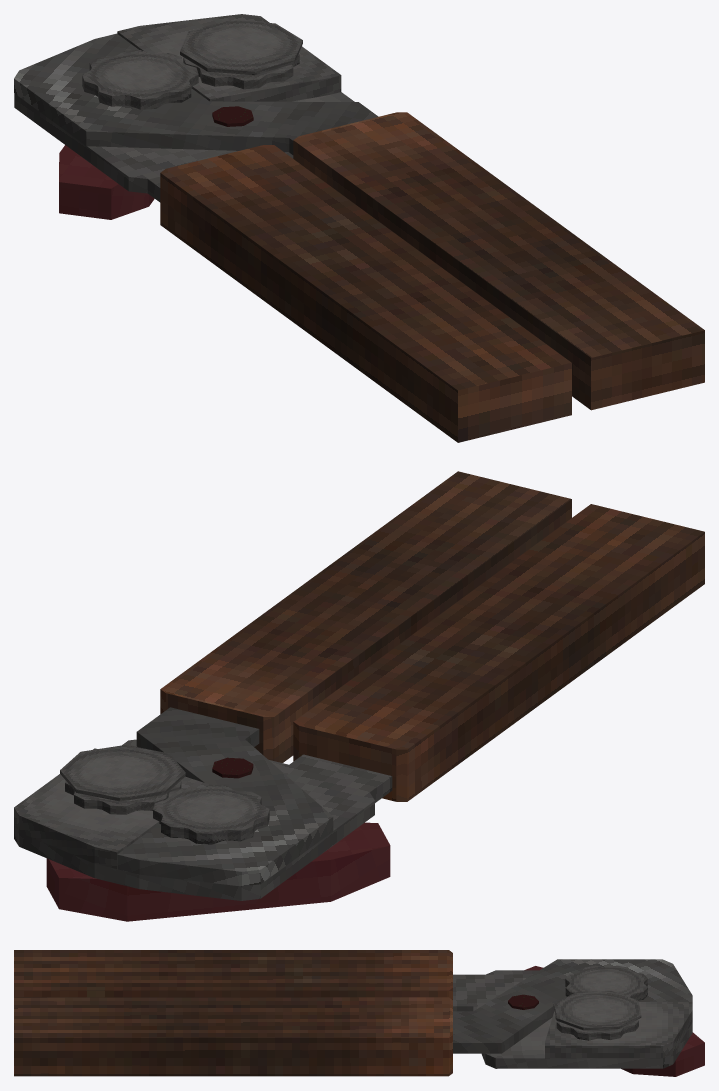
Rendered from placeholder.glb.
3 renders of one model, top to bottom at view 1: azimuth 30°, elevation 25°; view 2: azimuth 150°, elevation 25°; view 3: azimuth 270°, elevation 25°, orthographic. The views are drawn at different scales.
Parts seen in each view (by area): view 1: Abrelata; view 2: Abrelata; view 3: Abrelata.
Boxes of the visible parts, box(x1,y1,x2,y2) form: Abrelata: box(14, 14, 704, 442); Abrelata: box(14, 471, 704, 921); Abrelata: box(14, 950, 704, 1076).
Bounding box in the file's own units: 0.0642 × 0.0196 × 0.1818.
Materials: 1 (1 with a texture image).
